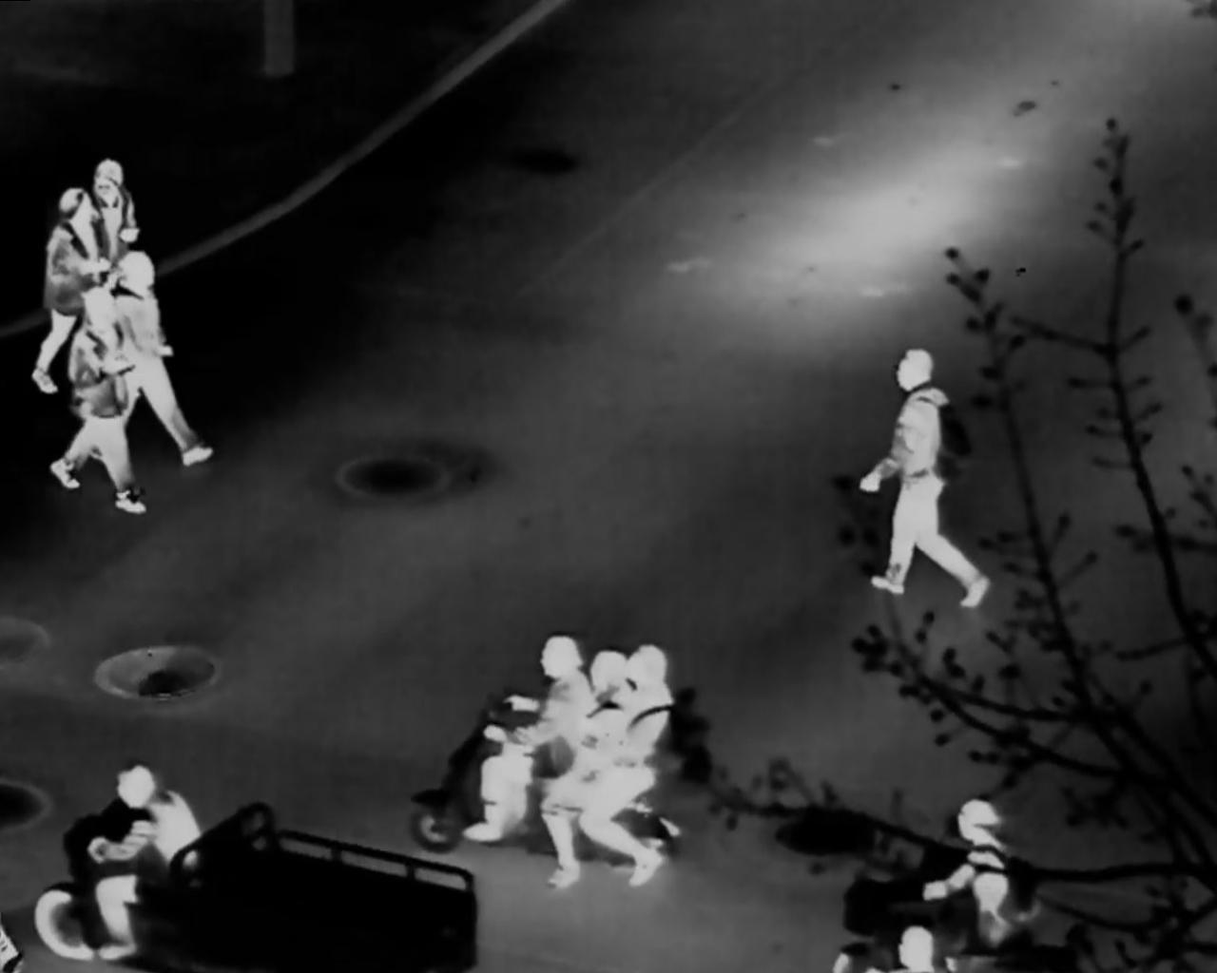person: (858, 345, 993, 607), (462, 633, 590, 841), (86, 763, 201, 963), (582, 639, 671, 891), (537, 650, 628, 895), (47, 288, 144, 516), (114, 249, 212, 467), (30, 185, 104, 394), (919, 795, 1018, 944), (84, 151, 141, 265)
